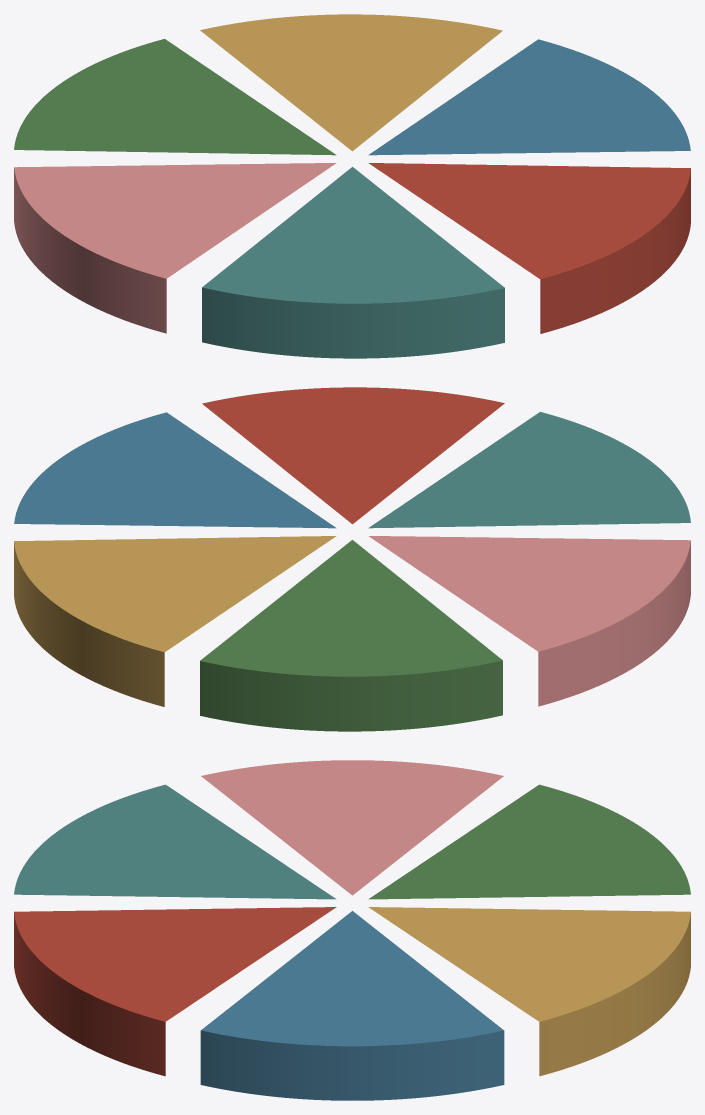
The model's file is wp-disque-de-fractions-en-sixiemes.glb.
3 views of the same model, one above another, from view 1: azimuth 30°, elevation 25°; view 2: azimuth 150°, elevation 25°; view 3: azimuth 270°, elevation 25° (orthographic).
Parts seen in each view (by area): view 1: fraction-1-6 (×6); view 2: fraction-1-6 (×6); view 3: fraction-1-6 (×6).
Part boxes in pixels (<box>): fraction-1-6 (×6): <box>14,14,690,358</box>; fraction-1-6 (×6): <box>14,387,690,731</box>; fraction-1-6 (×6): <box>14,760,690,1100</box>.
Bounding box in the file's own units: 0.45 × 0.04 × 0.45.
